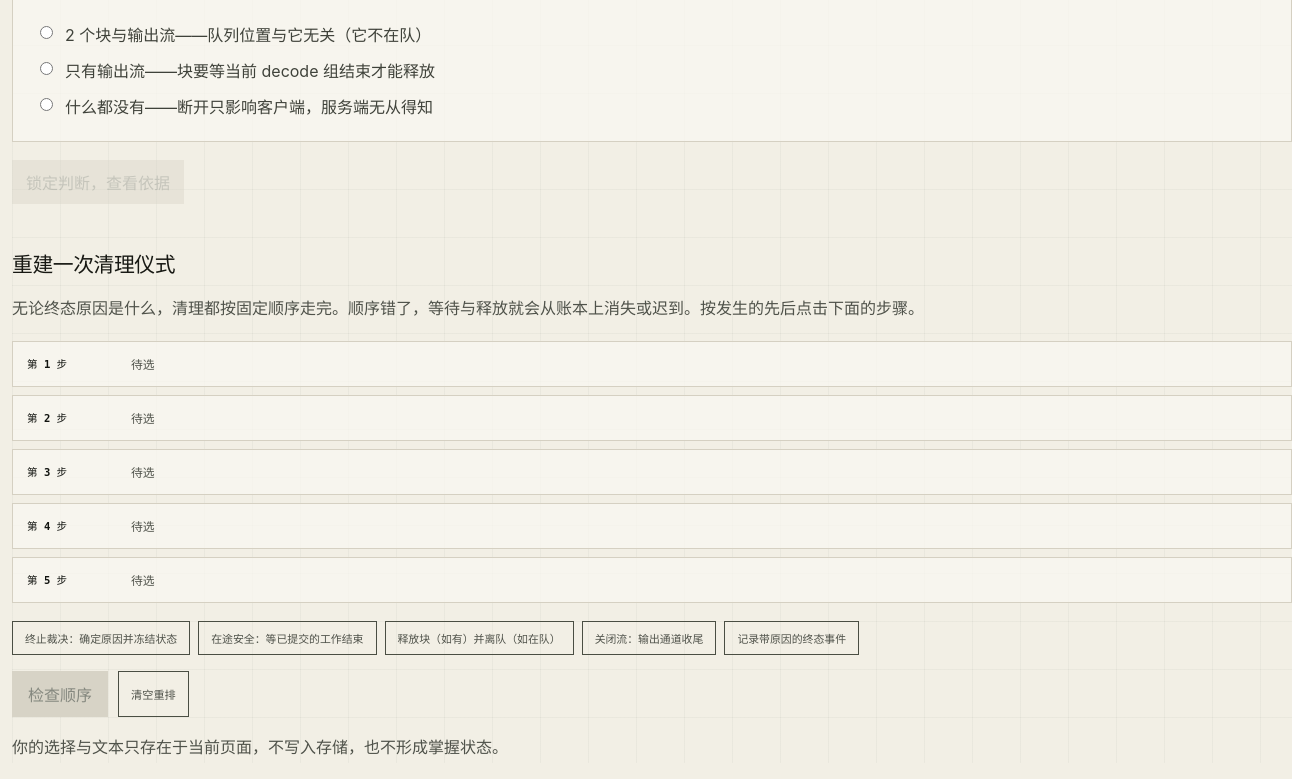
Test case: termination ledger practice component › grades a rebuilt cleanup order and marks every result simulated
(page scrolled)
Click the button "终止裁决：确定原因并冻结状态": (101, 638) [12,621,190,655]
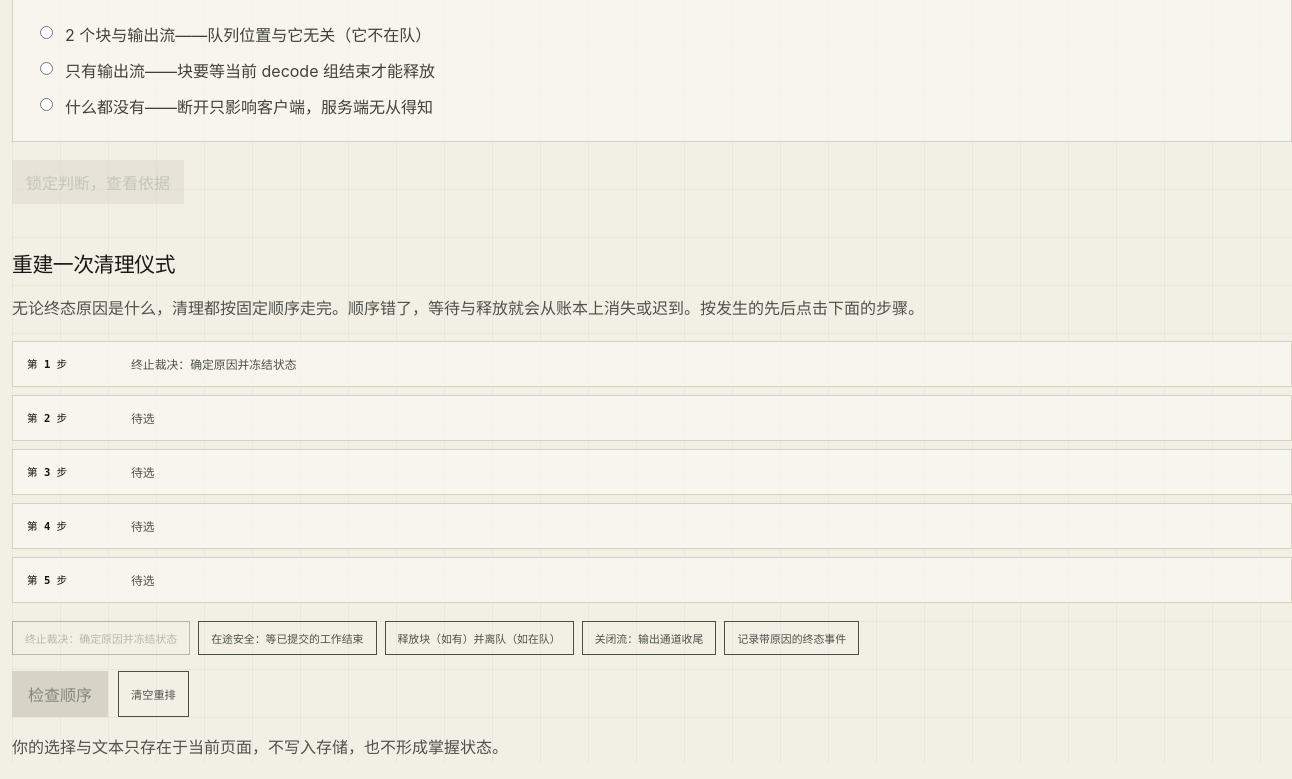
Click the button "在途安全：等已提交的工作结束": (287, 638) [198,621,377,655]
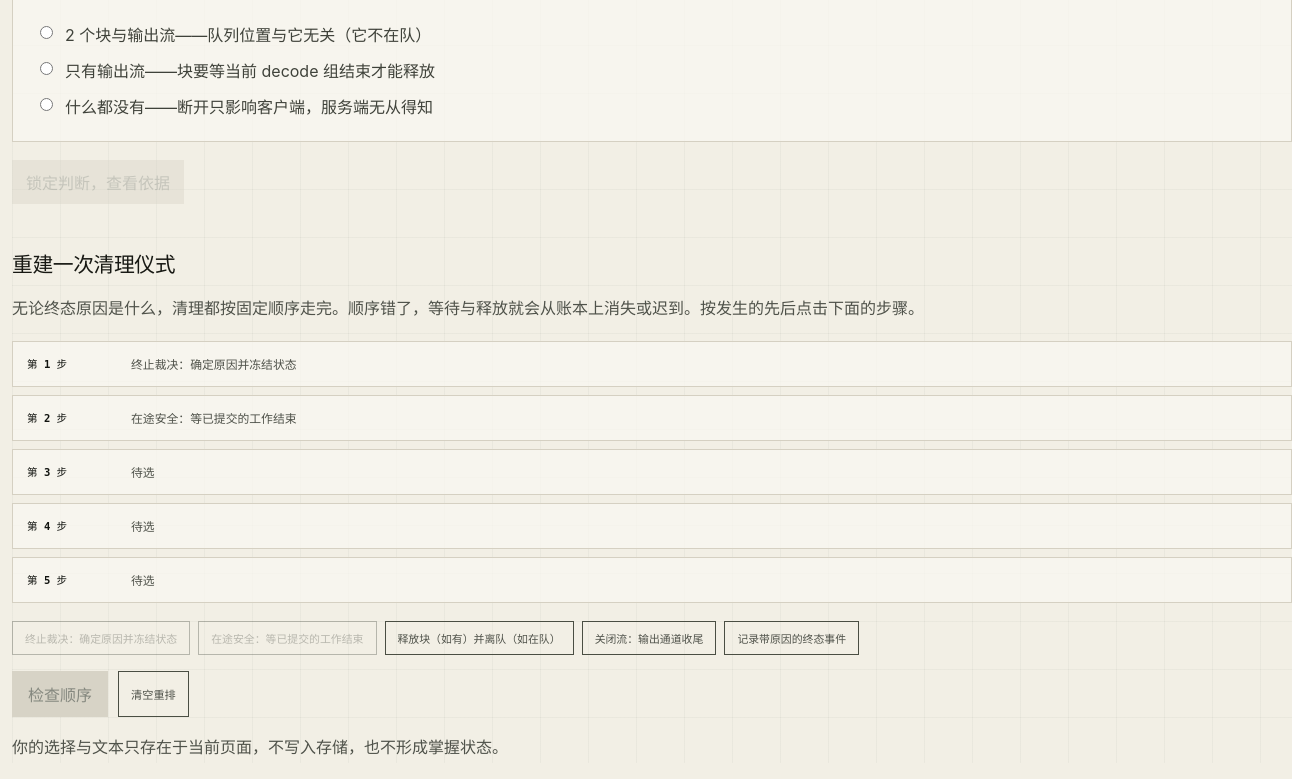
Click the button "关闭流：输出通道收尾": (649, 638) [582,621,716,655]
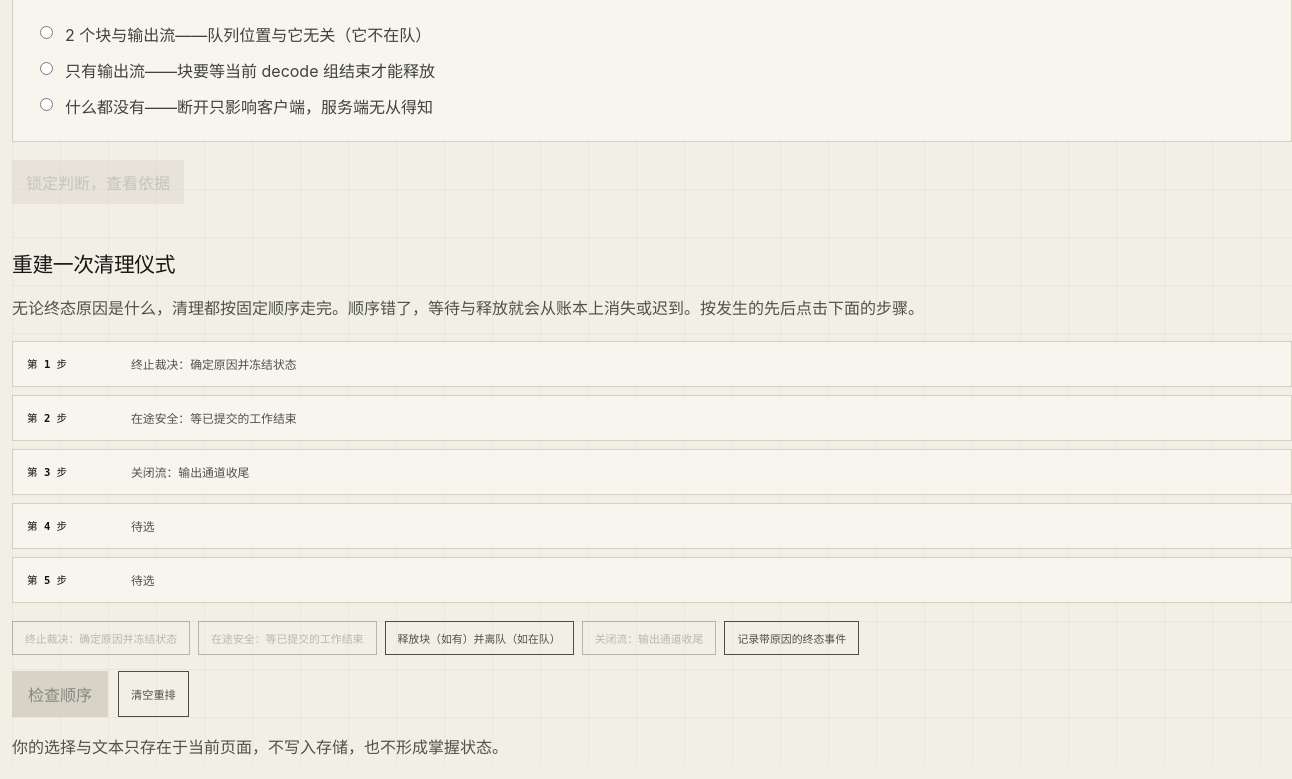
Click the button "释放块（如有）并离队（如在队）": (479, 638) [384,621,574,655]
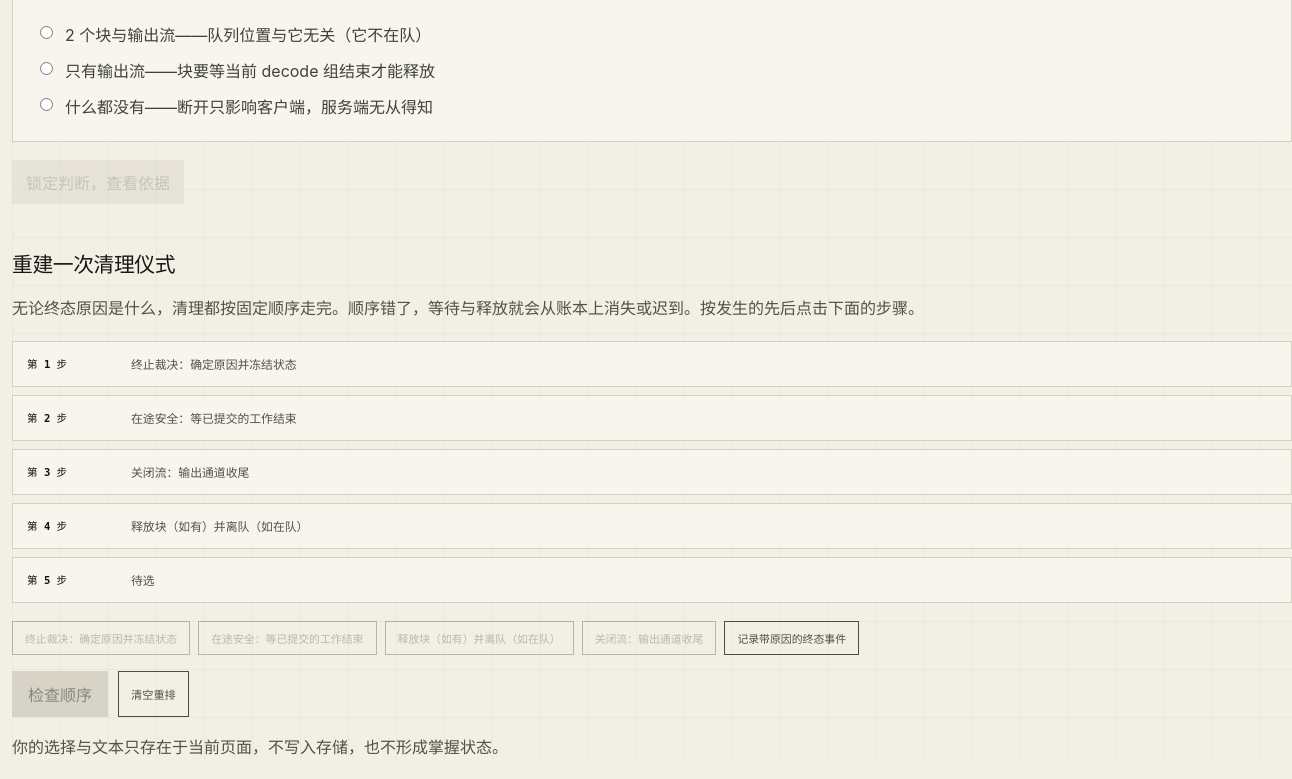
Click the button "记录带原因的终态事件": (792, 638) [724,621,859,655]
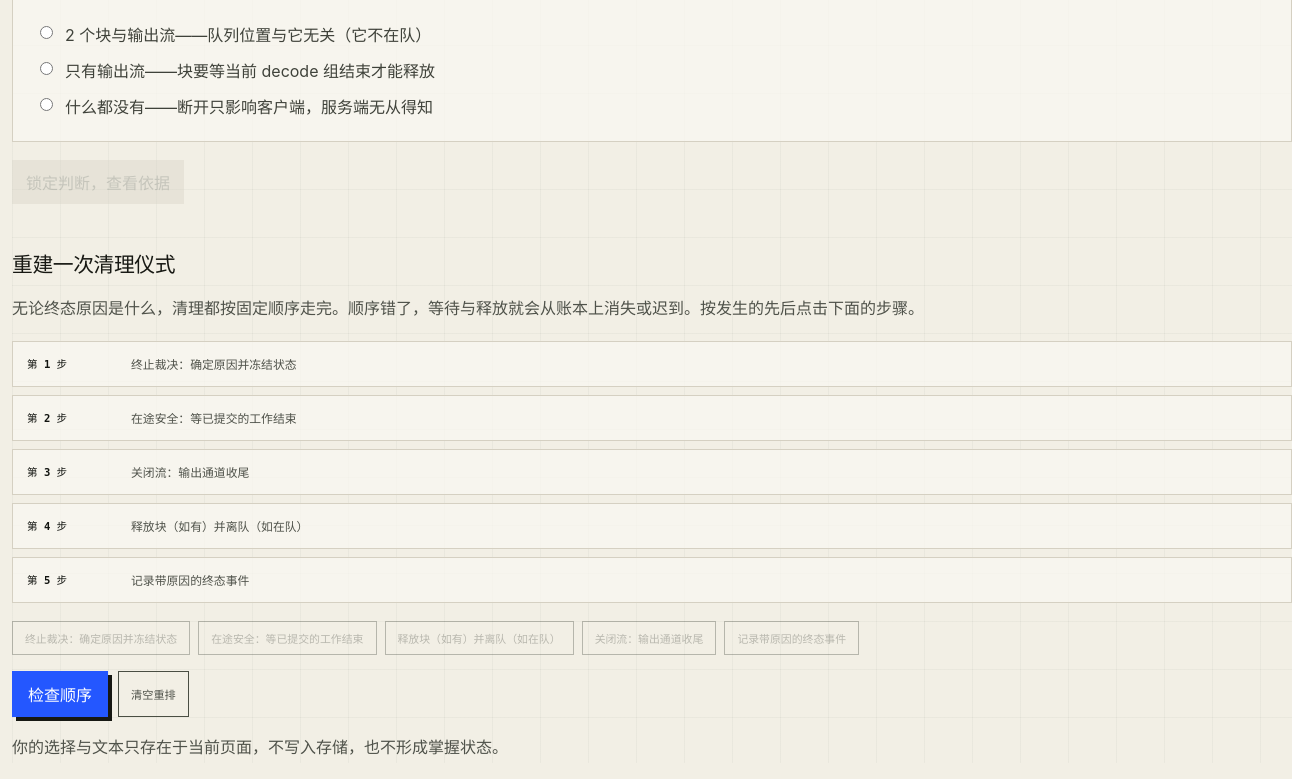
Click the button "检查顺序": (60, 694) [12,671,108,717]
(page scrolled)
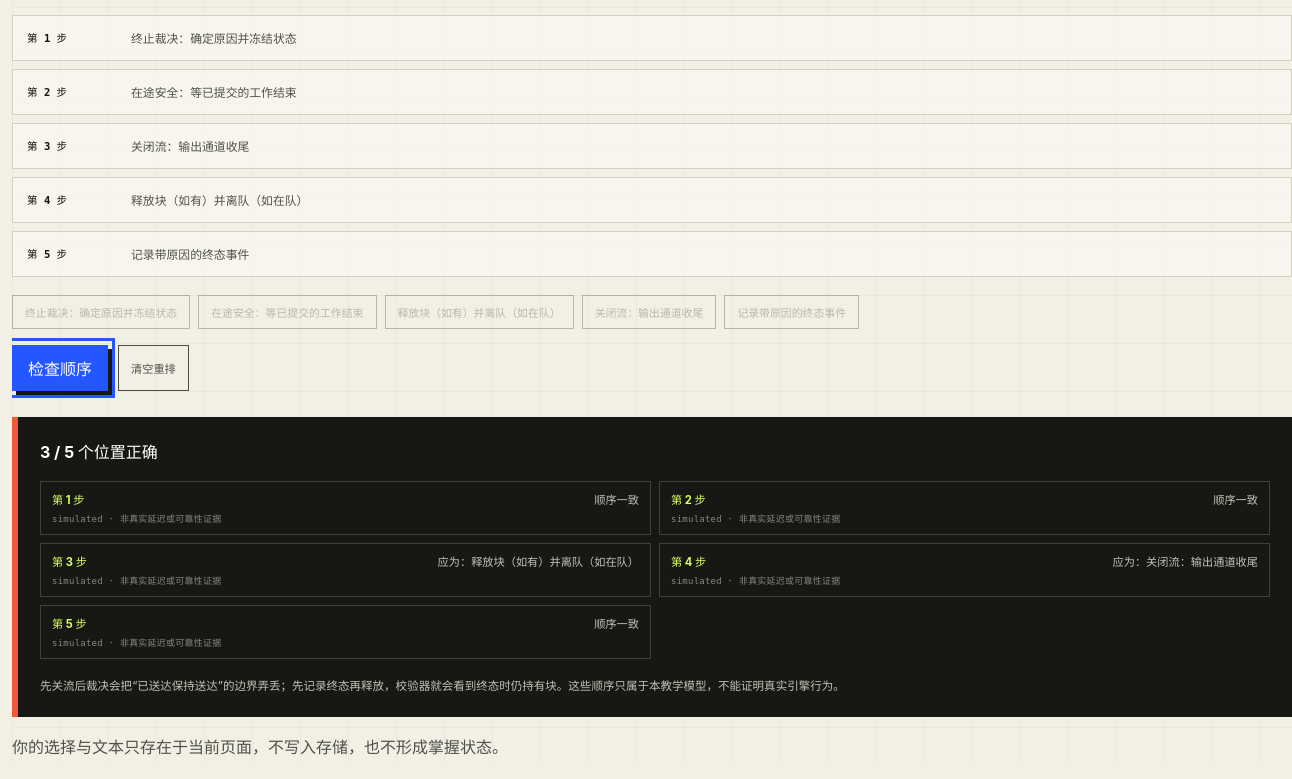
Check: the text "3 / 5 个位置正确" is shown, box [40,442,158,462]
Check: the text "应为：释放块（如有）并离队（如在队）" is shown, box [438,555,639,569]
Check: the text "先关流后裁决" is shown, box [40,679,845,693]
